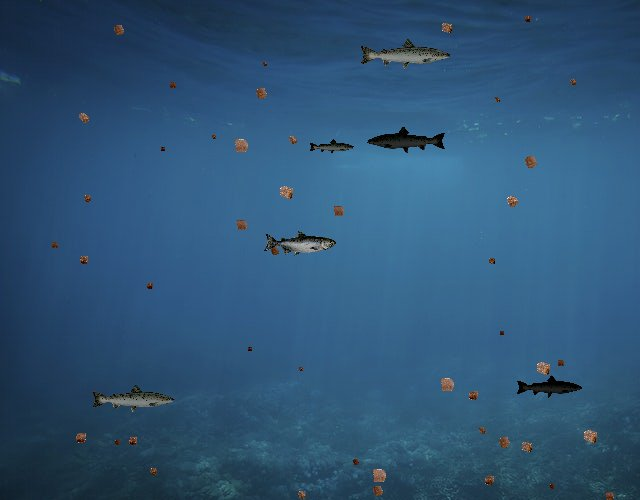Fish: (359, 38, 453, 72), (90, 383, 176, 414), (367, 126, 448, 155), (263, 230, 336, 257), (515, 375, 583, 399), (308, 139, 355, 156)
Pellet: (518, 149, 544, 175), (500, 189, 525, 214), (72, 107, 94, 129), (484, 254, 498, 268), (520, 12, 534, 26), (546, 480, 559, 493), (208, 132, 218, 142)
